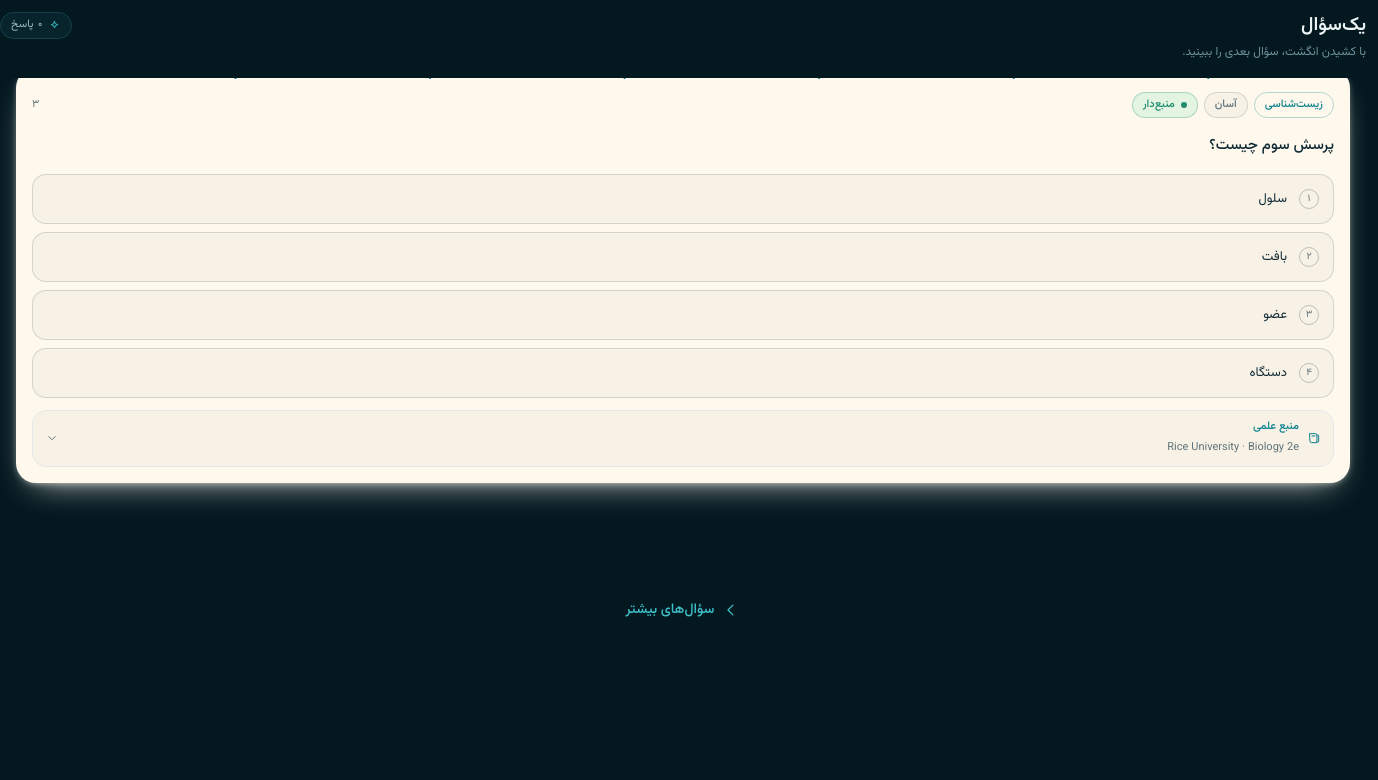
Test: Explore continuous feed › advances the cursor and never duplicates a question
The width and height of the screenshot is (1378, 780).
(page scrolled)
Step 1. Click the button "سؤال‌های بیشتر" → (683, 610), box 610,588 -> 756,632
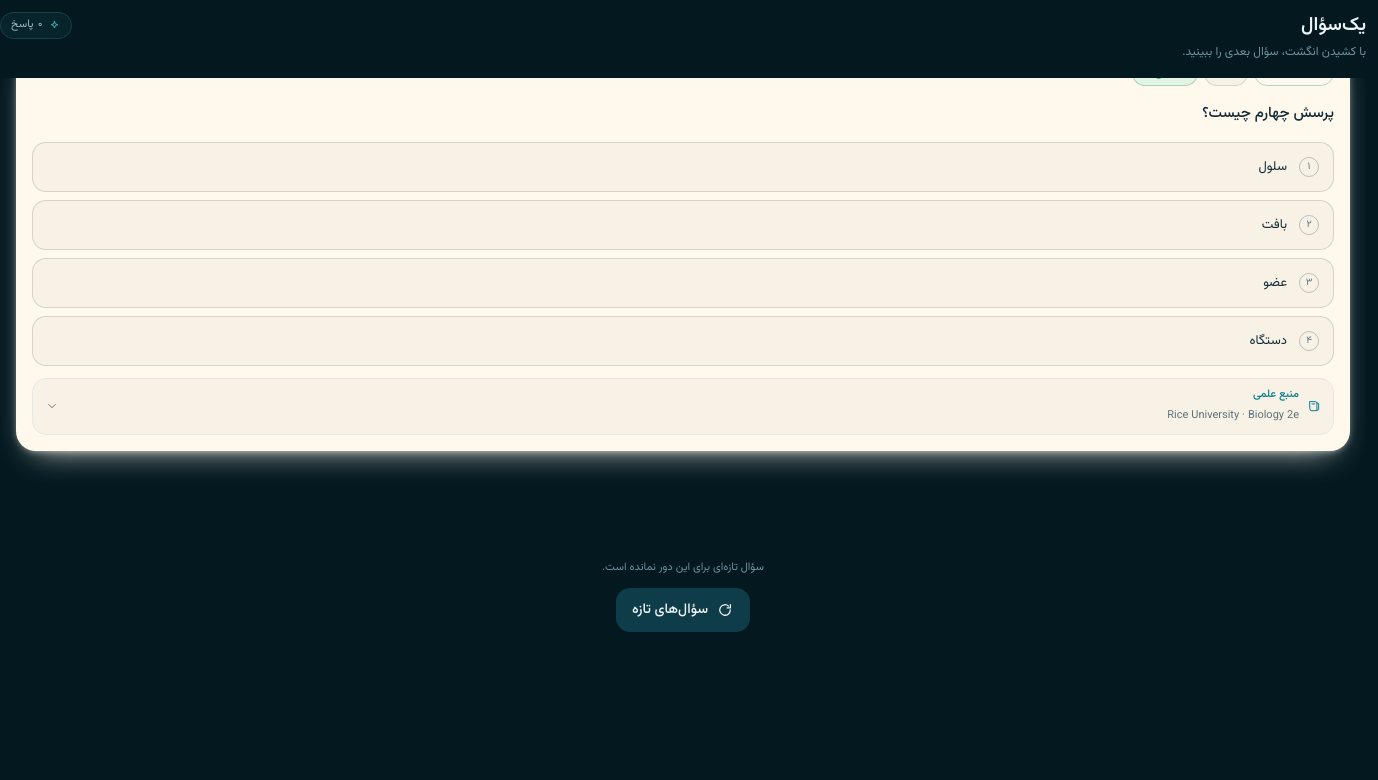
Expected: the heading "پرسش چهارم چیست؟" is shown, 1202,102 -> 1334,125
